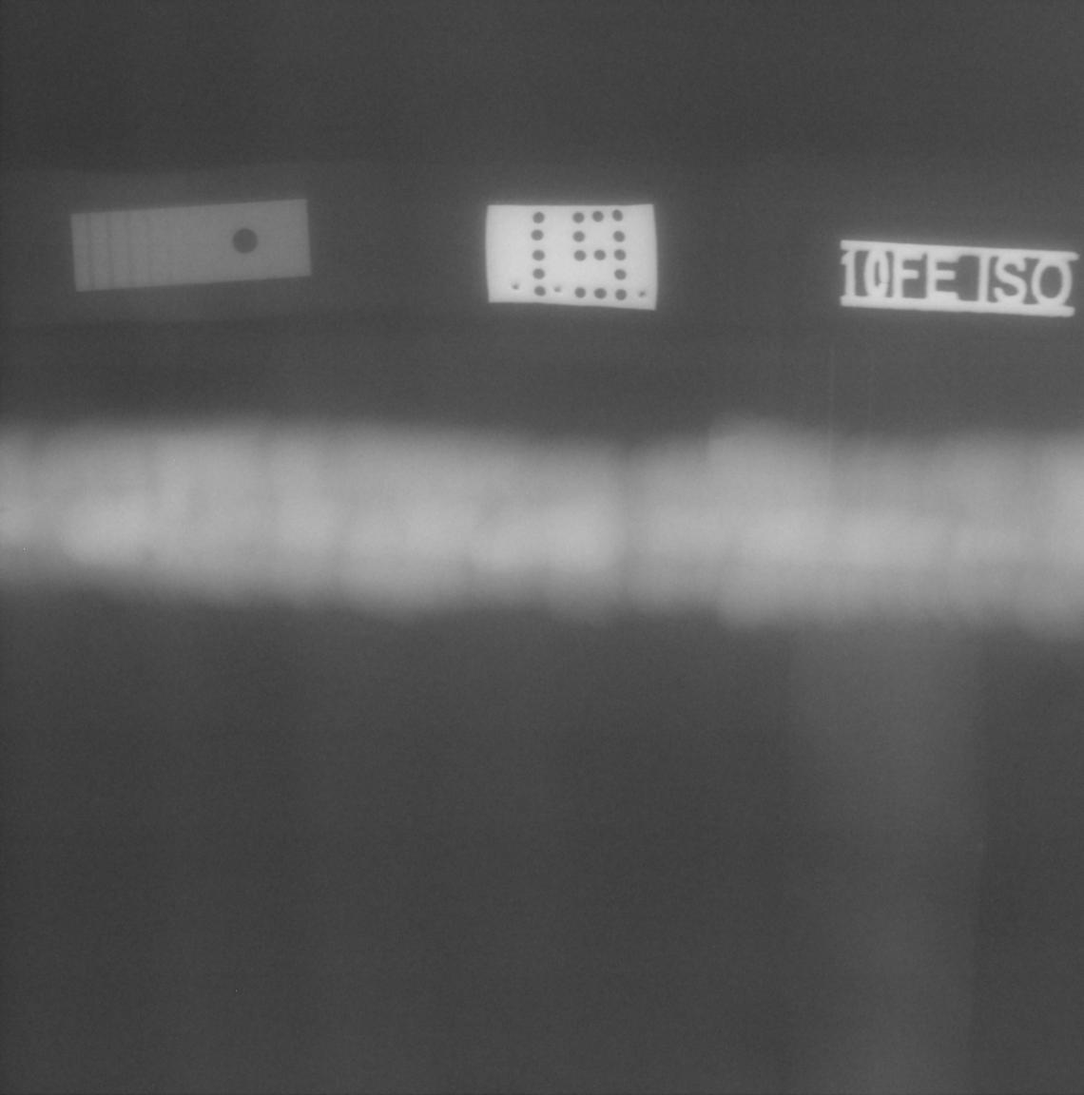Reference Standard 1: (72, 199, 312, 291)
